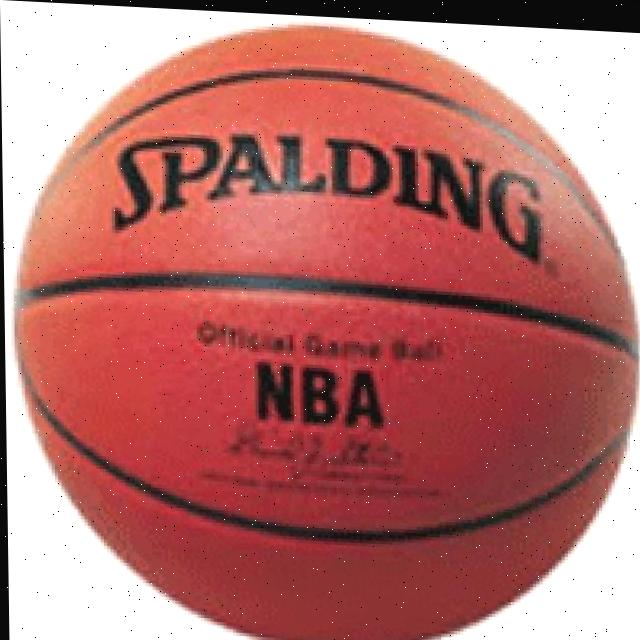Basketball: (10, 4, 640, 640)
